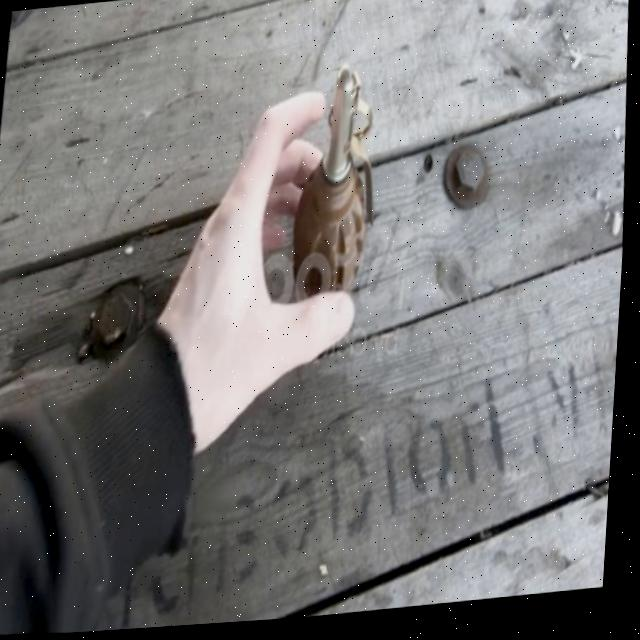grenade: (274, 63, 399, 334)
